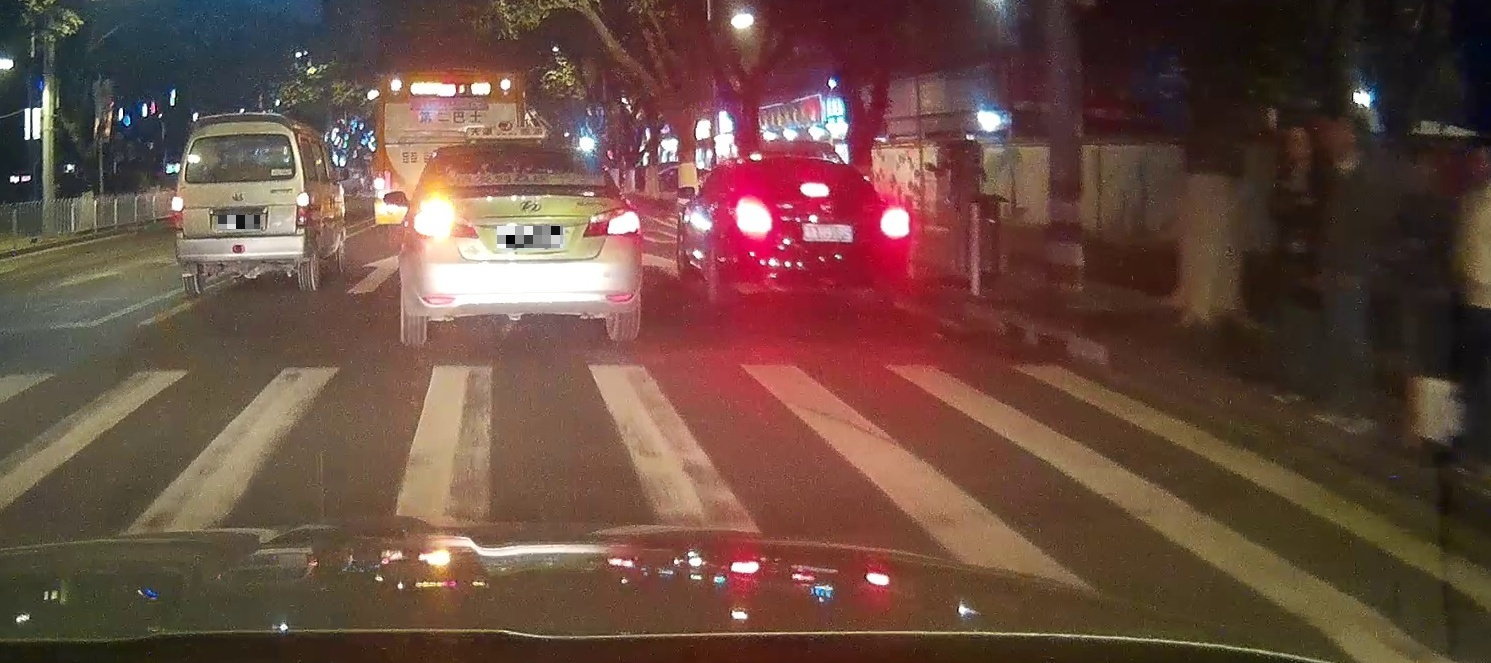L_light: (412, 193, 480, 240), (734, 197, 773, 239), (171, 196, 185, 239)
R_light: (582, 199, 640, 236), (879, 207, 910, 240), (296, 192, 309, 236)
T_light: (799, 181, 831, 197), (506, 150, 530, 157), (227, 135, 244, 139)
night-brake: (725, 157, 910, 309)
night-left: (406, 143, 642, 344)
night-no: (170, 112, 313, 295)
plate_1: (218, 215, 260, 229)
plate_2: (497, 226, 563, 248)
